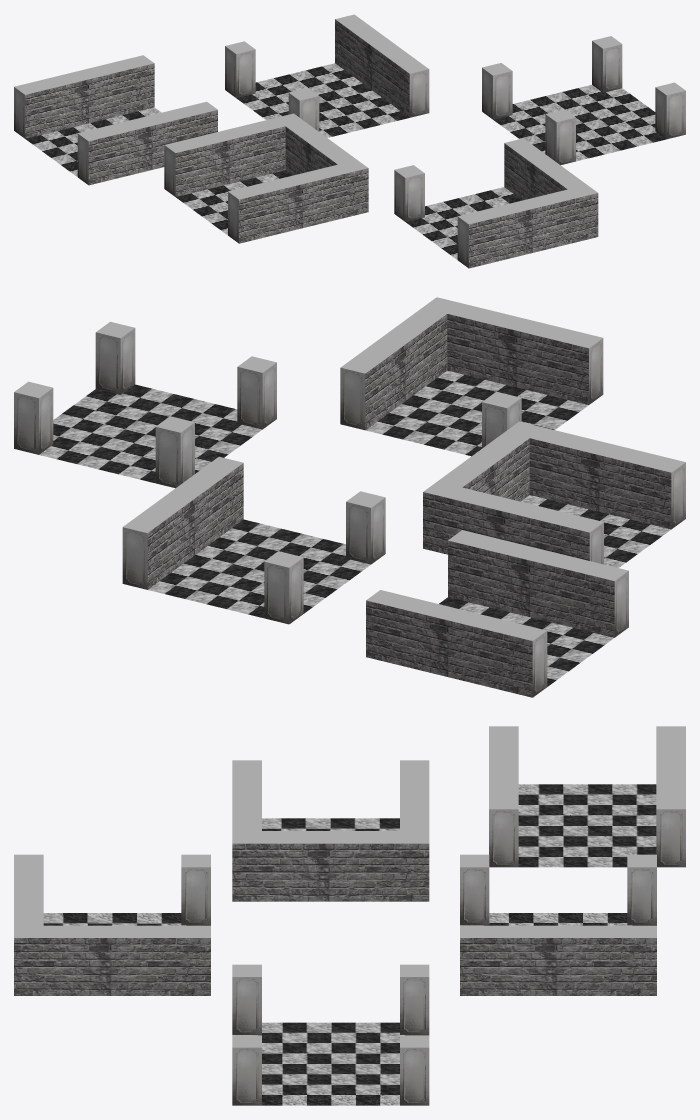
Rendered from Floor_2B.fbx.
3 views of the same model, one above another, from view 1: azimuth 30°, elevation 25°; view 2: azimuth 150°, elevation 25°; view 3: azimuth 270°, elevation 25° (orthographic). The views are drawn at different scales.
Parts seen in each view (by area): view 1: pPlane_stop2, pPlane_s2, pPlane_L2, pPlane_t2, pPlane_x2; view 2: pPlane_L2, pPlane_s2, pPlane_stop2, pPlane_t2, pPlane_x2; view 3: pPlane_stop2, pPlane_x2, pPlane_L2, pPlane_t2, pPlane_s2.
Boxes of the visible parts, x1,y1,x2,y2 form: pPlane_stop2: (164,113,368,243); pPlane_s2: (14,55,217,185); pPlane_L2: (394,138,598,268); pPlane_t2: (225,14,429,137); pPlane_x2: (482,36,685,165); pPlane_L2: (340,297,603,456); pPlane_s2: (366,530,628,697); pPlane_stop2: (423,421,685,567); pPlane_t2: (122,456,385,624); pPlane_x2: (14,321,276,488); pPlane_stop2: (232,760,429,901); pPlane_x2: (232,964,429,1105); pPlane_L2: (14,854,210,995); pPlane_t2: (460,854,656,995); pPlane_s2: (489,726,685,867).
Bounding box in the file's own units: 1593 × 134 × 1406.
